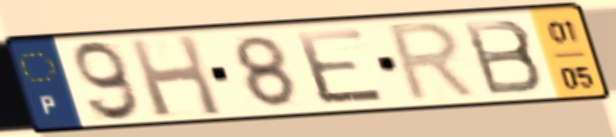8: (227, 33, 302, 109)
9: (66, 39, 144, 123)
B: (458, 17, 548, 99)
E: (290, 25, 391, 108)
H: (123, 31, 227, 120)
R: (384, 18, 484, 106)
